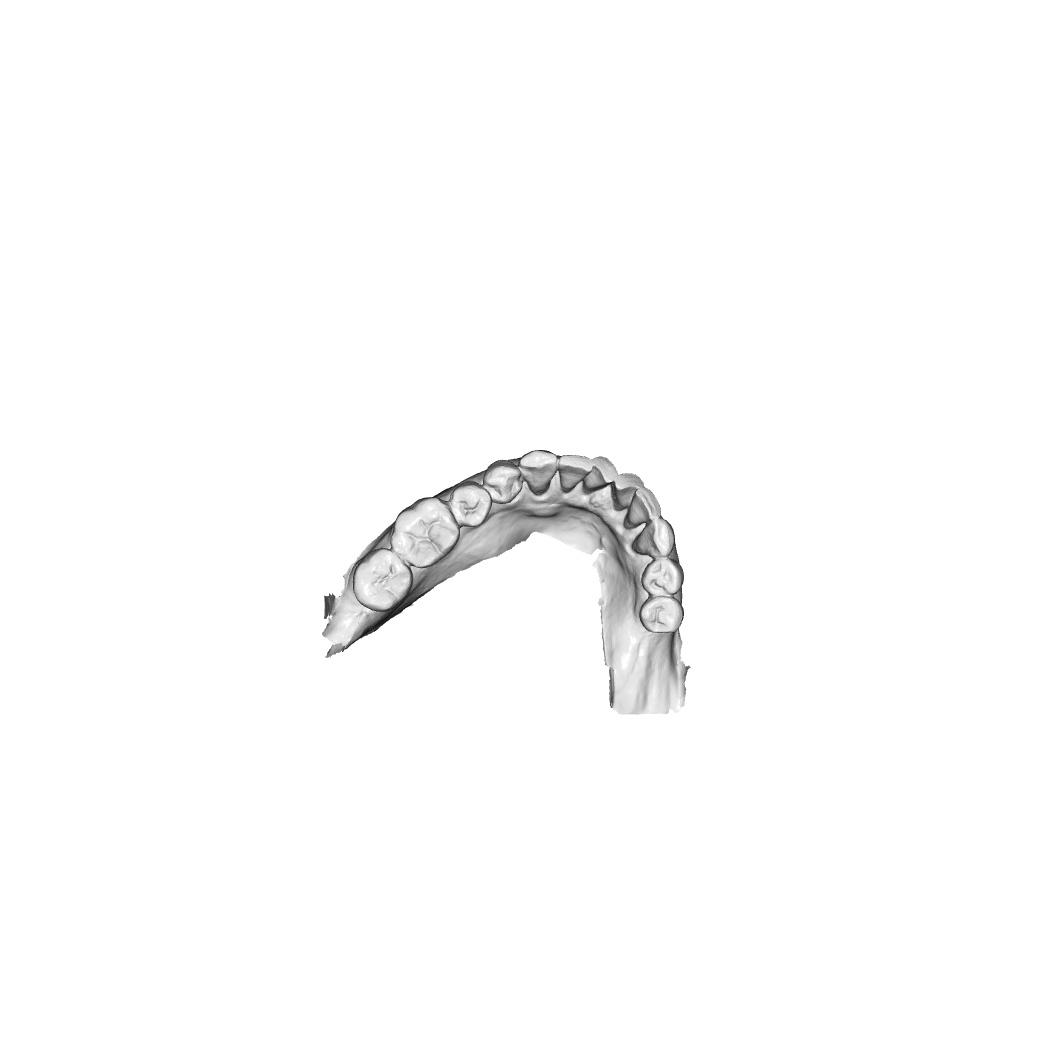canine: (518, 447, 559, 499), (629, 516, 678, 559)
incisor: (555, 452, 594, 494), (624, 486, 663, 528), (581, 454, 619, 496), (610, 471, 645, 510)
molar: (389, 494, 461, 570), (351, 547, 415, 613)
premolar: (448, 480, 493, 529), (481, 458, 524, 506), (638, 557, 686, 599), (637, 595, 686, 635)
